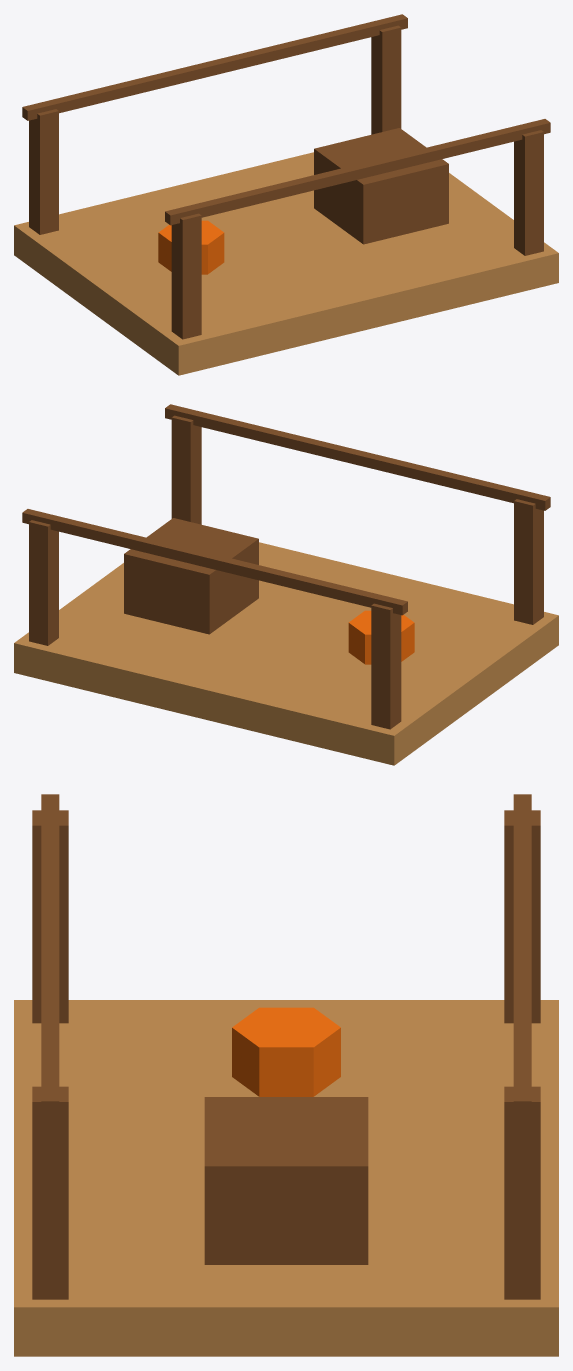
File: sky_balloon_basket_dock.glb
The picture shows the model from 3 angles, top to bottom: view 1: azimuth 30°, elevation 25°; view 2: azimuth 150°, elevation 25°; view 3: azimuth 270°, elevation 25°; orthographic projection. The views are drawn at different scales.
Visible parts, largest first — view 1: balloon_basket_dock; view 2: balloon_basket_dock; view 3: balloon_basket_dock.
Boxes of the visible parts, box(x1,y1,x2,y2) form: balloon_basket_dock: box(14, 14, 558, 375); balloon_basket_dock: box(14, 404, 558, 765); balloon_basket_dock: box(14, 794, 558, 1356).
Bounding box in the file's own units: 4 × 1.55 × 3.
